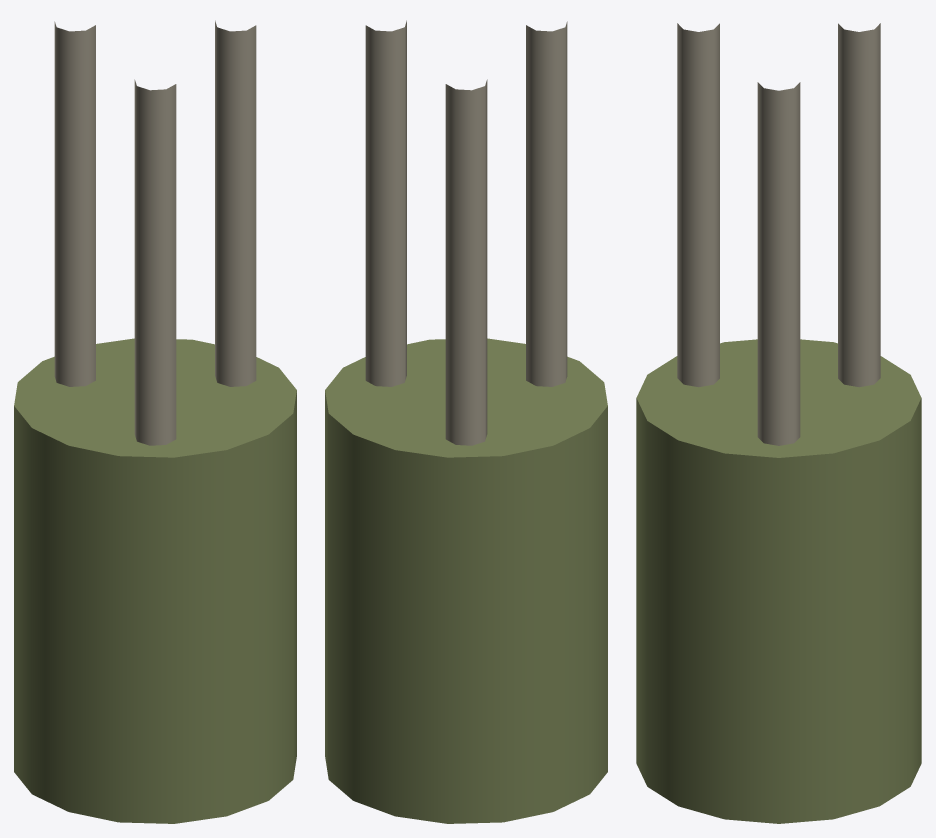
Rendered from smine.glb.
3 renders of one model, left to right at view 1: azimuth 30°, elevation 25°; view 2: azimuth 150°, elevation 25°; view 3: azimuth 270°, elevation 25°, orthographic.
Visible parts, largest first — view 1: SMine; view 2: SMine; view 3: SMine.
Boxes of the visible parts, x1,y1,x2,y2 form: SMine: [14, 20, 296, 823]; SMine: [325, 20, 607, 823]; SMine: [636, 23, 921, 823].
Size of the model in its own units: 0.24 by 0.67 by 0.24.
